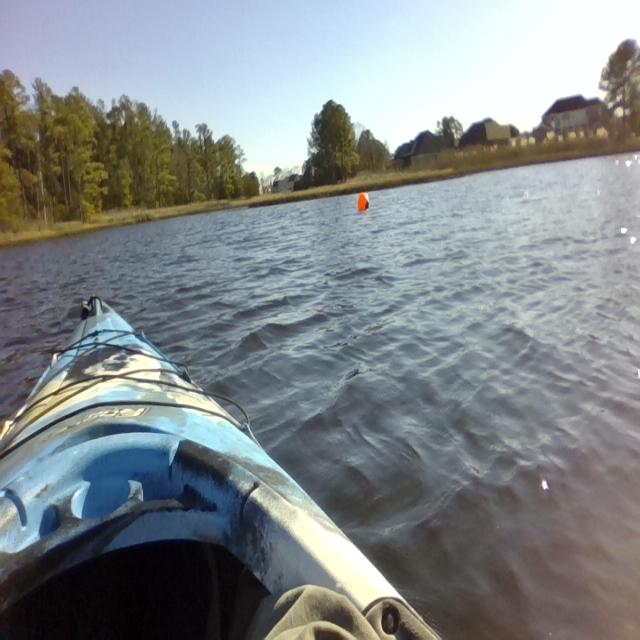Buoy: (354, 187, 374, 217)
